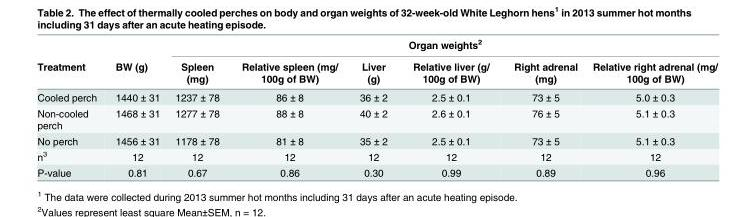table: (36, 37, 717, 177)
table column: (584, 37, 717, 177), (229, 37, 348, 177), (399, 37, 500, 177), (500, 37, 584, 177), (36, 37, 105, 177), (166, 37, 229, 177), (105, 37, 166, 177), (348, 37, 399, 177)
table column header: (36, 37, 717, 87)
table row: (36, 55, 717, 87), (36, 104, 717, 132), (36, 37, 717, 55), (36, 87, 717, 104), (36, 147, 717, 164), (36, 132, 717, 147), (36, 164, 717, 177)
table spanning cell: (166, 37, 717, 55), (36, 37, 105, 87), (105, 37, 166, 87)
